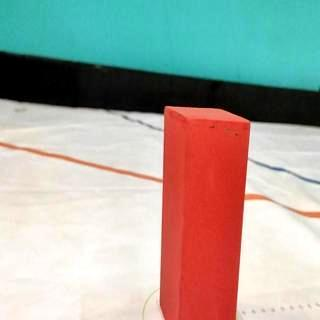redbox: (160, 105, 250, 320)
